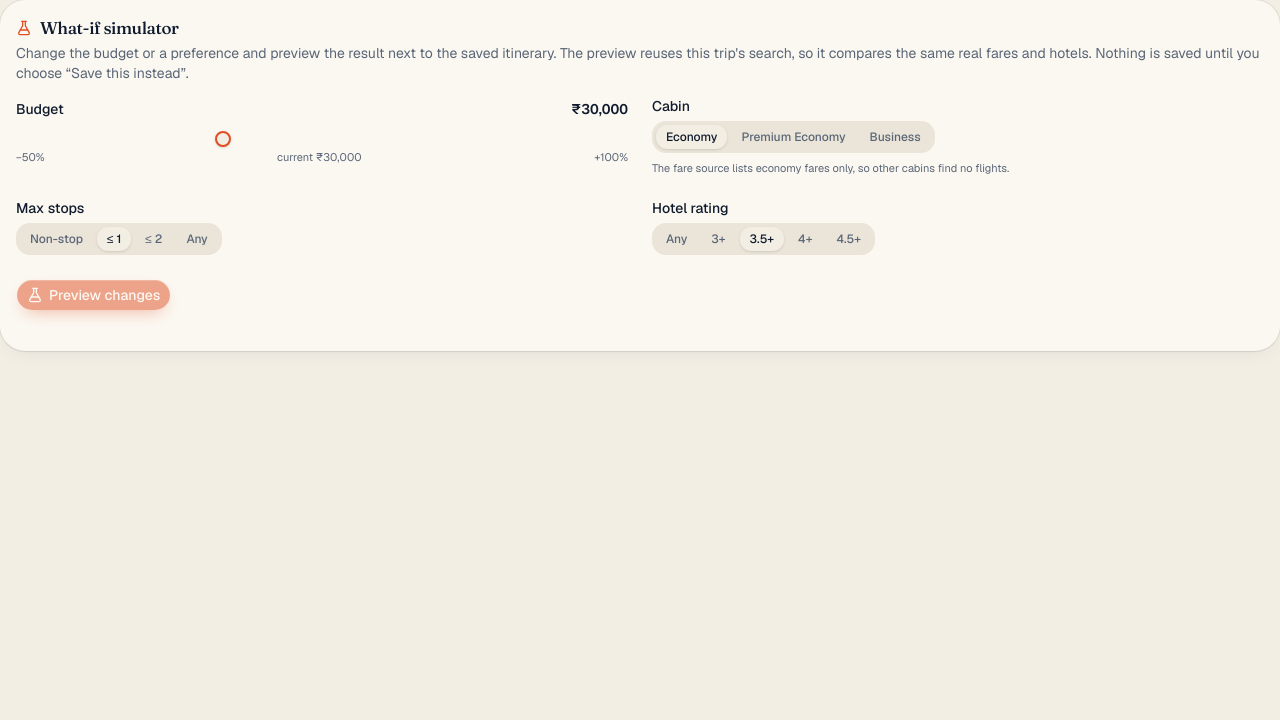
ServerWhatIf › sends only the changed inputs and shows the result next to the saved one
Click the radio button labelled "Non-stop": (56, 239) [20,227,93,251]
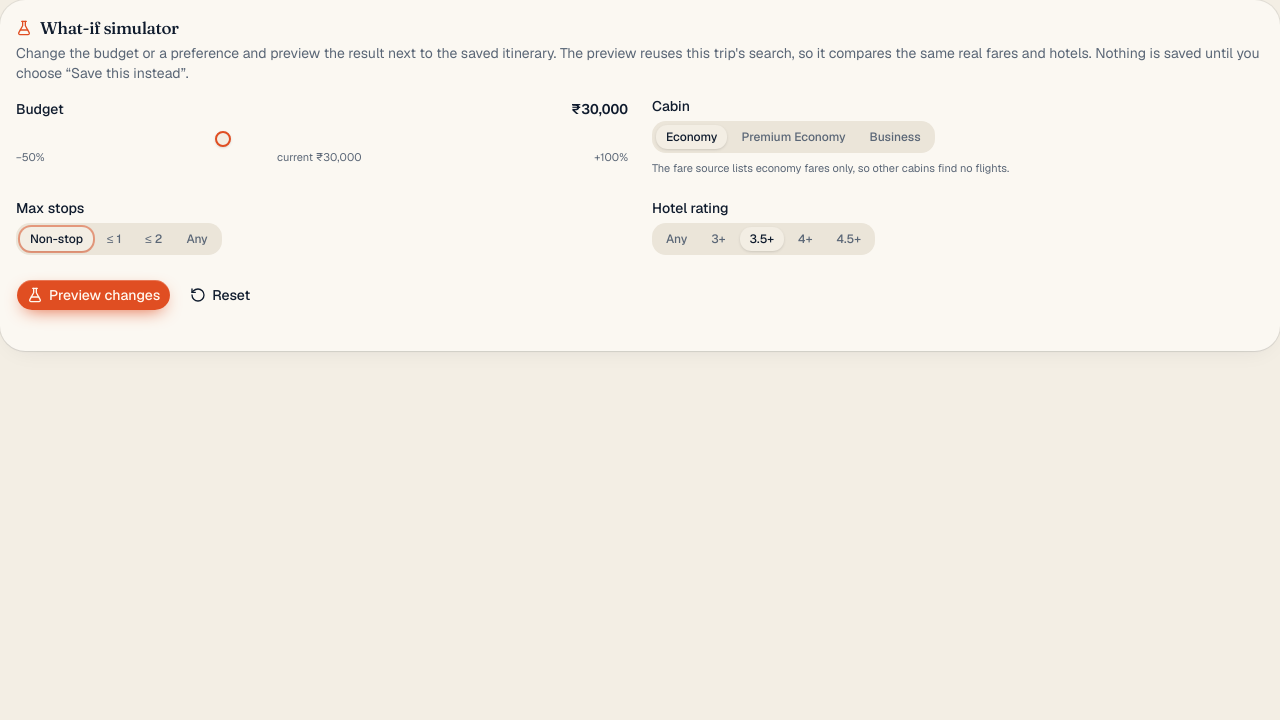
Click the radio button labelled "4+": (805, 239) [788,227,822,251]
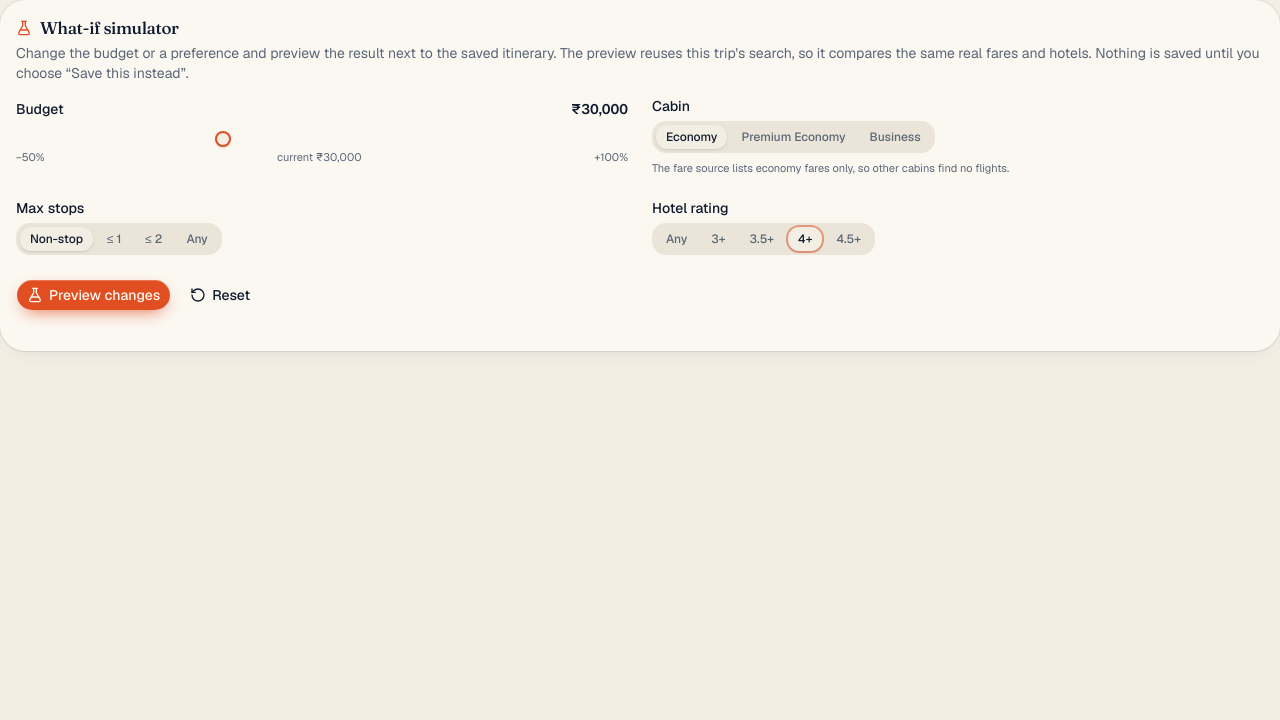
Click the button "Preview changes": (94, 295) [16,279,171,311]
(page scrolled)
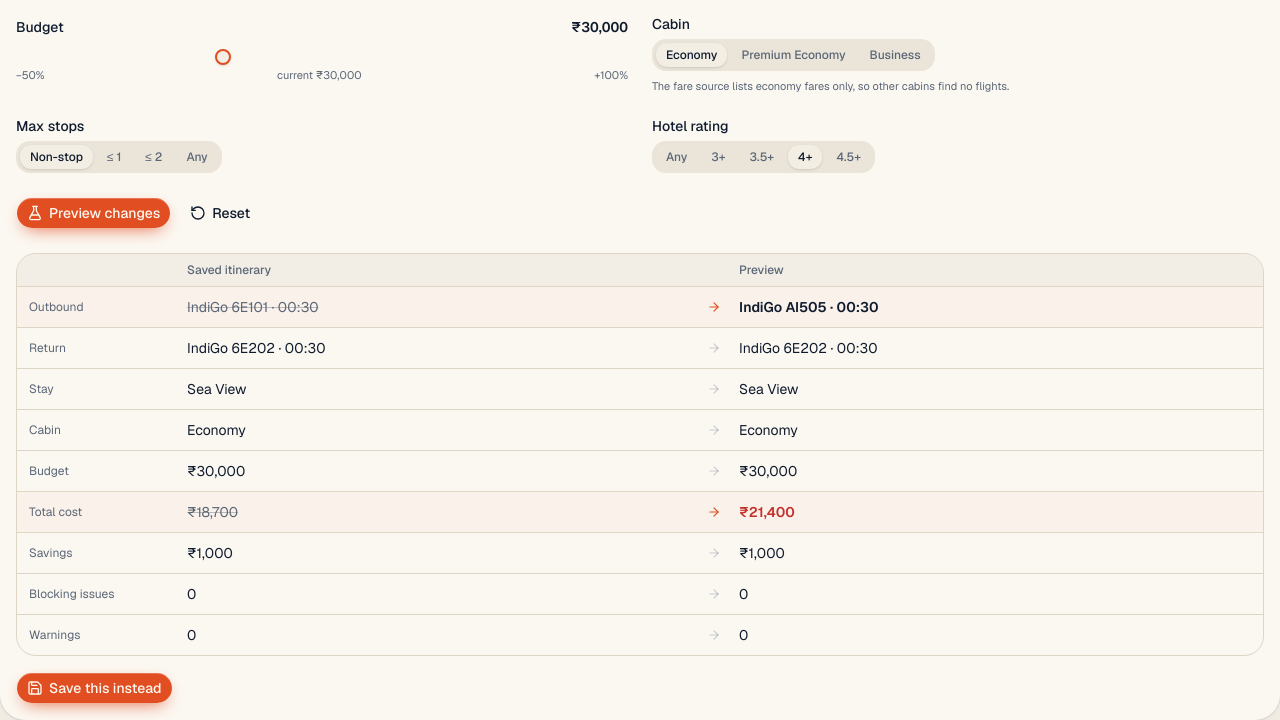
Check: the table named "saved itinerary compared with the preview" shows "₹18,700", box [187,503,238,521]
Check: the table named "saved itinerary compared with the preview" shows "₹21,400", box [739,503,795,521]
Check: the table named "saved itinerary compared with the preview" shows "AI505", box [739,298,878,316]
